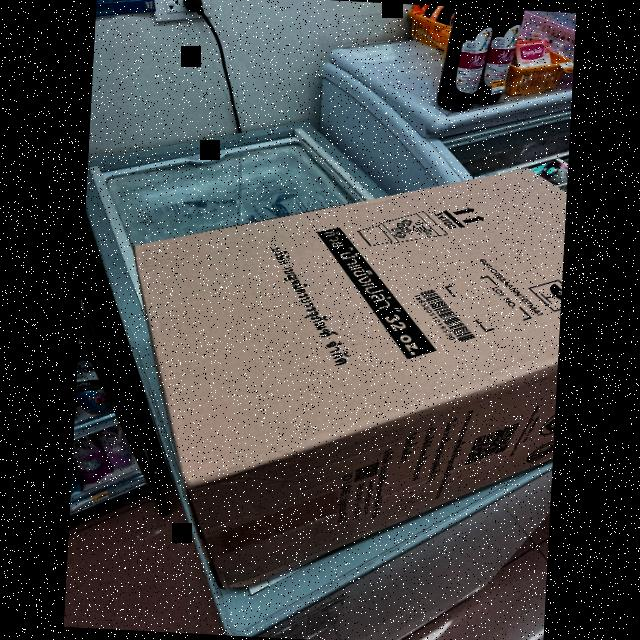cardboard_box: (130, 145, 568, 606)
